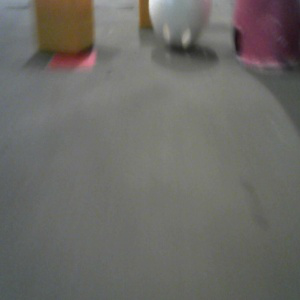right: (232, 1, 300, 70)
